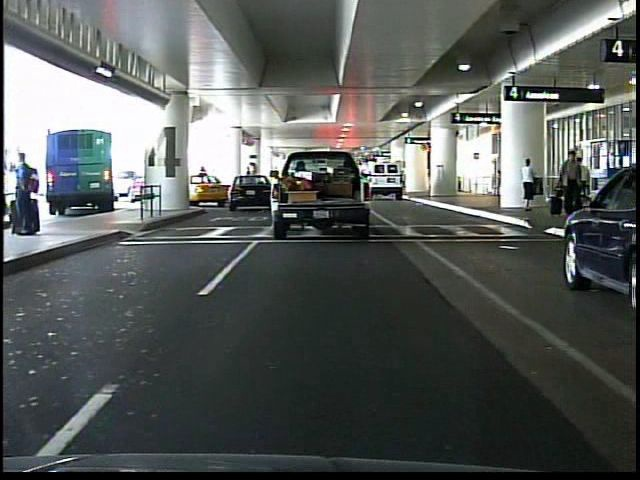person: (11, 142, 46, 240), (559, 147, 588, 216), (568, 154, 594, 219), (517, 155, 539, 214)
